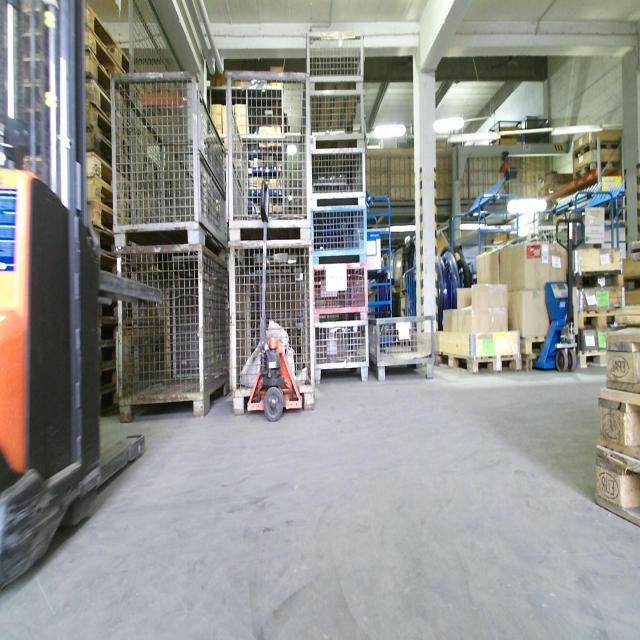pallet: (592, 445, 640, 525), (83, 4, 129, 75), (435, 345, 526, 380), (598, 385, 639, 459), (605, 334, 639, 393), (84, 97, 116, 144), (571, 155, 625, 182), (575, 309, 627, 336), (85, 77, 115, 121), (572, 139, 627, 161), (572, 270, 623, 293), (521, 354, 572, 375), (514, 337, 572, 355), (86, 129, 116, 162), (87, 32, 111, 73), (86, 58, 110, 99), (86, 181, 113, 211), (574, 352, 613, 372), (84, 153, 111, 181), (85, 203, 114, 228), (100, 388, 117, 415), (100, 296, 115, 321), (100, 343, 116, 364), (99, 321, 115, 342), (101, 368, 115, 386)
pallet_truck: (1, 1, 146, 603), (244, 181, 307, 427), (536, 210, 589, 376)
stillage: (112, 69, 230, 267), (113, 250, 229, 419), (223, 67, 312, 242), (228, 238, 317, 411), (368, 315, 435, 381), (305, 27, 367, 91), (308, 146, 369, 210), (312, 324, 373, 385), (305, 91, 367, 150), (312, 261, 369, 324), (308, 210, 369, 262)
